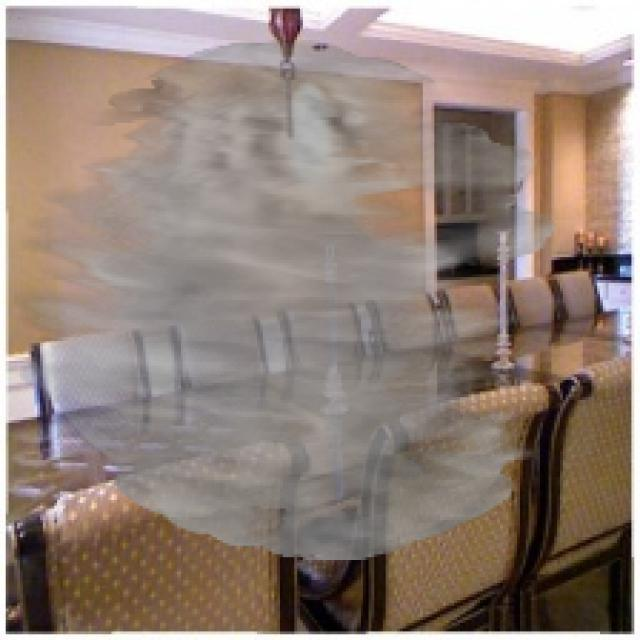Smoke: (14, 40, 557, 560)
